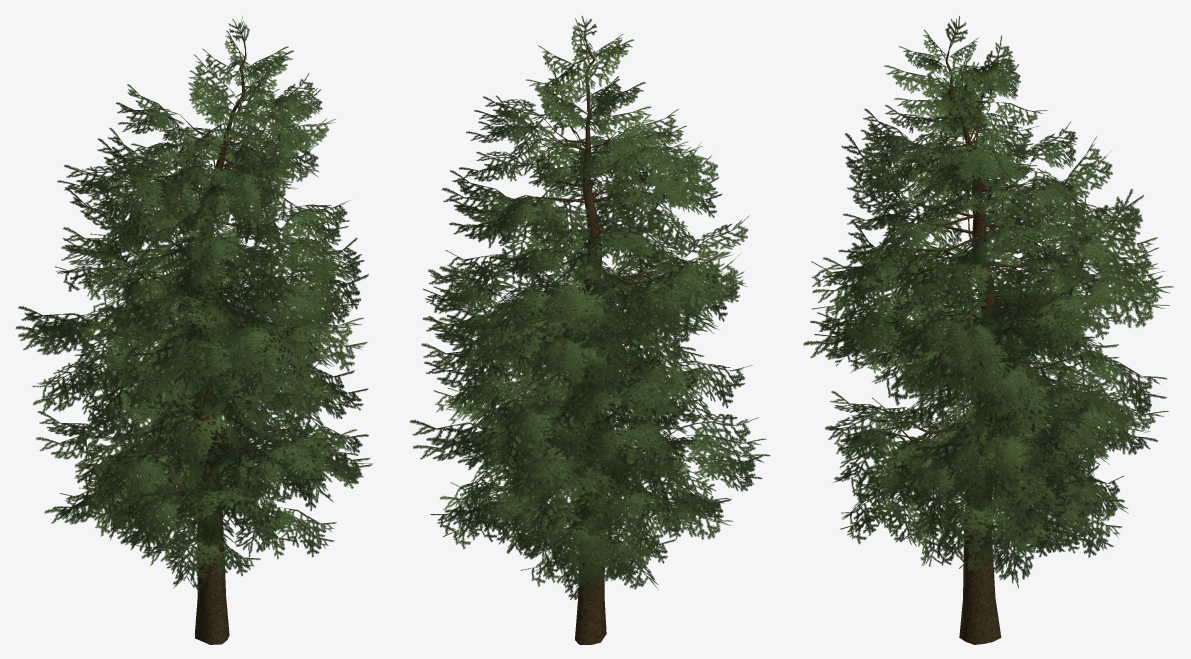
The model's file is fir.glb.
3 views of the same model, side by side, from view 1: azimuth 30°, elevation 25°; view 2: azimuth 150°, elevation 25°; view 3: azimuth 270°, elevation 25° (orthographic). The views are drawn at different scales.
Parts seen in each view (by area): view 1: Christmas tree_2_LOD0; view 2: Christmas tree_2_LOD0; view 3: Christmas tree_2_LOD0.
Boxes of the visible parts, x1,y1,x2,y2 form: Christmas tree_2_LOD0: (15,16,372,644); Christmas tree_2_LOD0: (409,16,770,644); Christmas tree_2_LOD0: (803,16,1173,644).
Bounding box in the file's own units: 4.95 × 9.23 × 4.98.
Materials: 2 (2 with a texture image).
